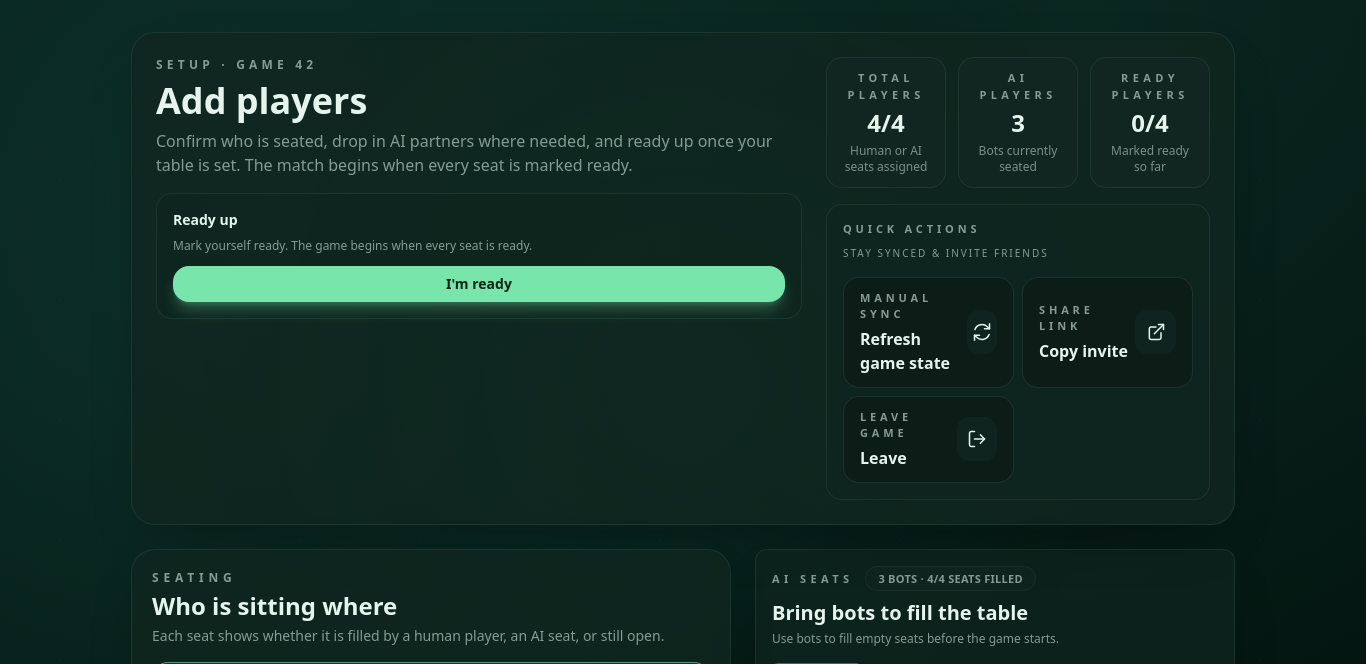
Scenario: GameRoomClient › Error handling › displays error messages with traceId
Click the button "Manual sync Refresh game state".
click(928, 332)  # box x1=843 y1=276 x2=1014 y2=388
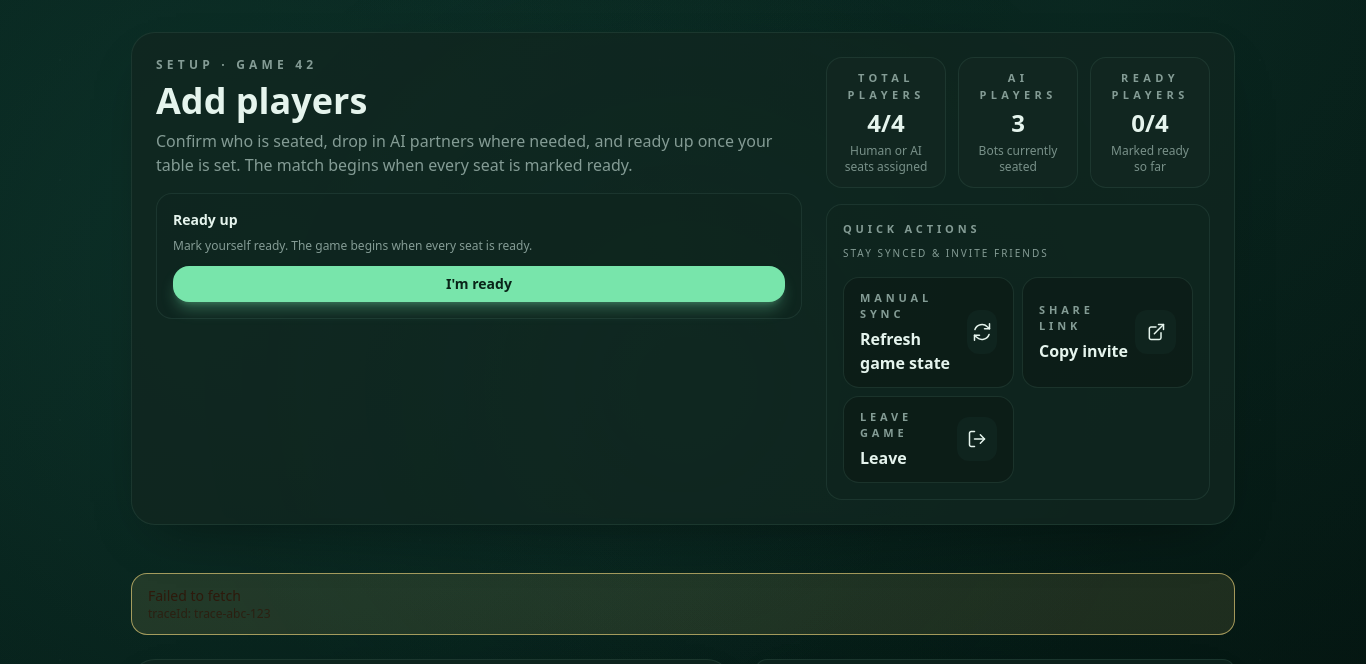
expect the text "Failed to fetch" is shown: met, box x1=148 y1=586 x2=241 y2=604
